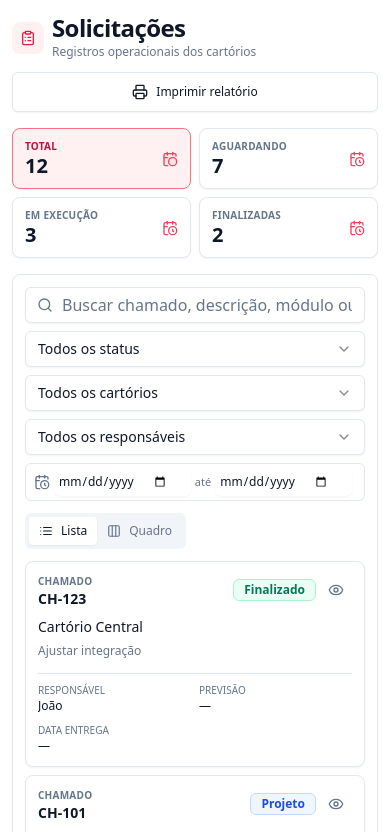
Test: CS/CX — ações por permissão › abre o modal de visualização de observações ao clicar no botão de olho sem modo de edição
The image size is (390, 832).
Step 1. Click the button named "visualizar observações" → point(336, 590), box [320, 574, 352, 606]
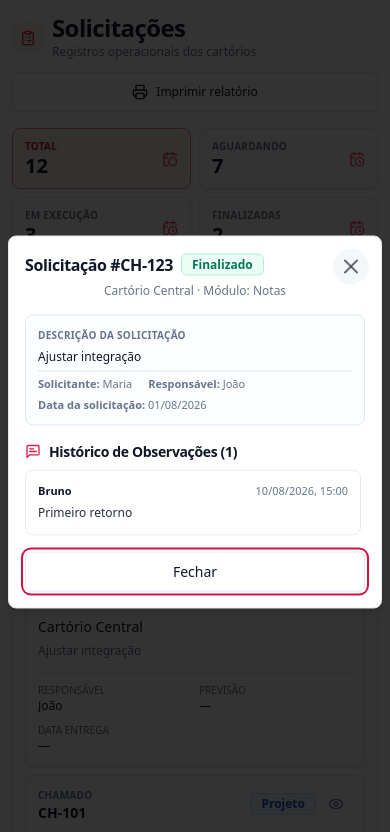
Check: the text "Descrição da Solicitação" is shown, box [38, 328, 186, 342]
Check: the heading "Histórico de Observações (1)" is shown, box [49, 442, 237, 462]
Check: the text "Primeiro retorno" is shown, box [38, 504, 132, 520]
